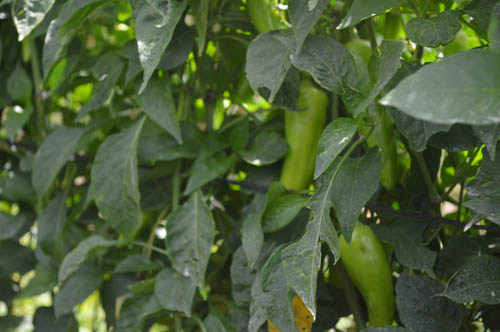ChiliPepper: (345, 40, 401, 186), (339, 229, 397, 324), (276, 89, 324, 199)
